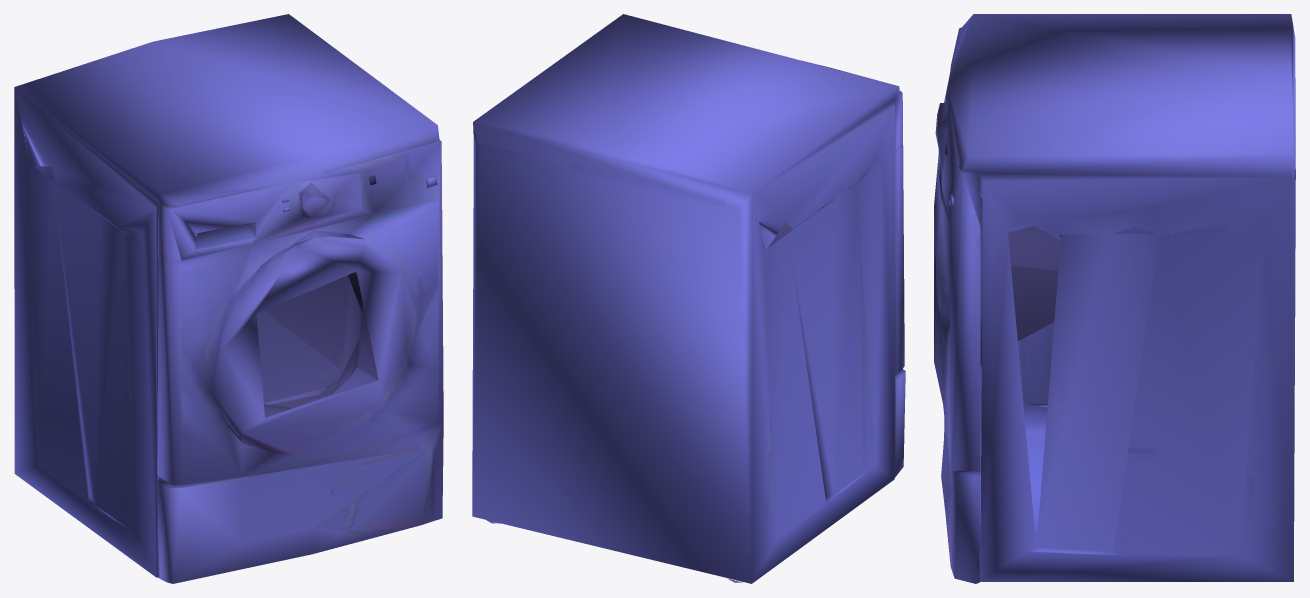
File: model.progressive.glb
The picture shows the model from 3 angles, left to right: view 1: azimuth 30°, elevation 25°; view 2: azimuth 150°, elevation 25°; view 3: azimuth 270°, elevation 25°; orthographic projection. The views are drawn at different scales.
Visible parts, largest first — view 1: material; view 2: material; view 3: material.
Part boxes in pixels (<box>): material: <box>14,14,443,583</box>; material: <box>472,14,905,583</box>; material: <box>934,14,1295,583</box>.
Bounding box in the file's own units: 1.37 × 1.9 × 1.42.
Materials: 1 (1 with a texture image).
